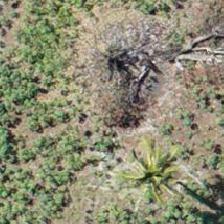coconut_tree: (108, 141, 198, 223)
